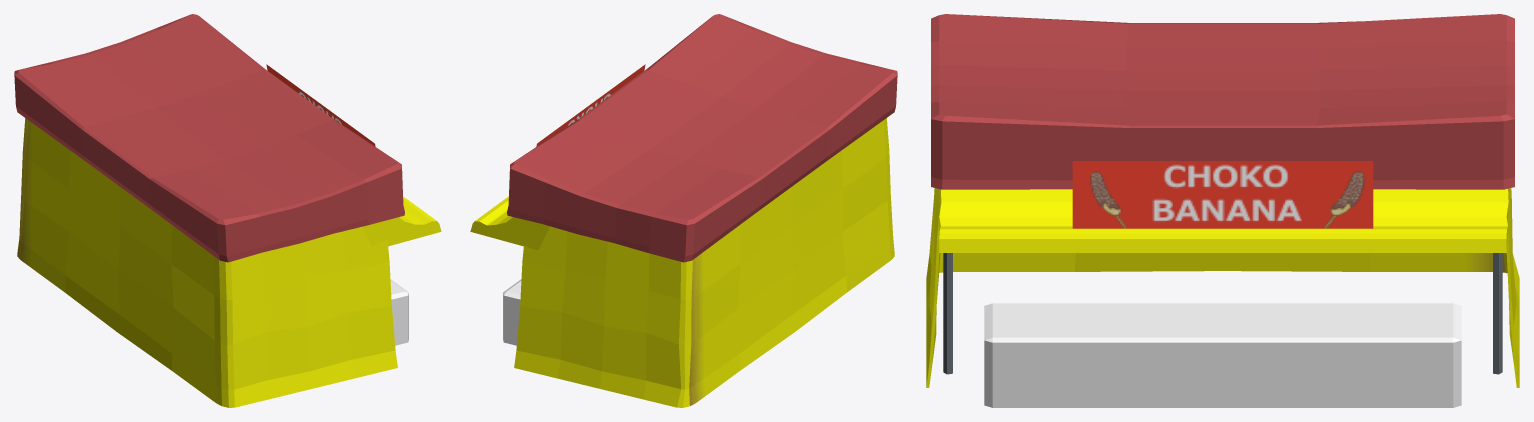
Rendered from rowyataiyakitorilong2.fbx.
The picture shows the model from 3 angles, left to right: view 1: azimuth 30°, elevation 25°; view 2: azimuth 150°, elevation 25°; view 3: azimuth 270°, elevation 25°; orthographic projection. The views are drawn at different scales.
Visible parts, largest first — view 1: Cube, 立方体, Cube.001, 立方体.001, 平面; view 2: Cube, 立方体, Cube.001, 立方体.001, 平面; view 3: Cube, 立方体.001, Cube.001, 平面, 立方体, 円柱.
Boxes of the visible parts, left/top/right/bottom form: Cube: left=14, top=14, right=404, bottom=262; 立方体: left=17, top=118, right=397, bottom=407; Cube.001: left=362, top=196, right=441, bottom=247; 立方体.001: left=390, top=279, right=408, bottom=345; 平面: left=266, top=64, right=375, bottom=146; Cube: left=507, top=14, right=897, bottom=262; 立方体: left=514, top=118, right=894, bottom=407; Cube.001: left=470, top=196, right=549, bottom=250; 立方体.001: left=503, top=279, right=521, bottom=345; 平面: left=536, top=64, right=645, bottom=146; Cube: left=931, top=14, right=1514, bottom=189; 立方体.001: left=984, top=303, right=1461, bottom=407; Cube.001: left=939, top=189, right=1508, bottom=252; 平面: left=1072, top=161, right=1373, bottom=228; 立方体: left=926, top=188, right=1519, bottom=387; 円柱: left=943, top=253, right=1502, bottom=374.
Bounding box in the file's own units: 133 × 114 × 221.
3 materials, 3 textured.
